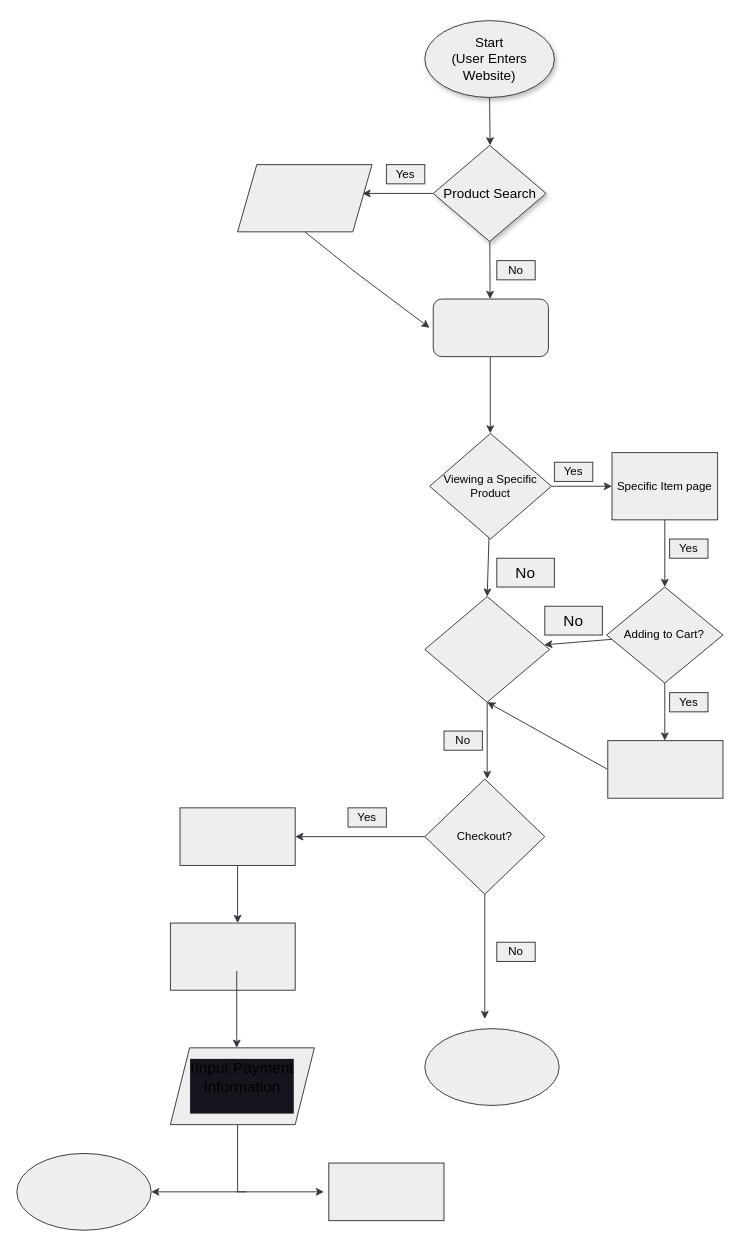
Some shapes in this 740 by 1247 pixel diagram are drawn without their labels. The shapes that lost their labels are listed below. From the top down, each one's centre as x and y in pixels, then its label:
(x=304, y=198): User's Input
(x=490, y=327): Product's Home Page
(x=487, y=649): Continue with the Shopping
(x=665, y=769): Added to cart information
(x=237, y=836): View Cart
(x=232, y=956): View Payment Screen
(x=491, y=1066): Left Website
(x=83, y=1191): Confirmation Screen
(x=386, y=1191): Confirmation Email
